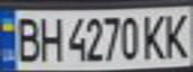0: (121, 12, 142, 62)
2: (84, 14, 106, 62)
4: (63, 14, 87, 62)
7: (103, 12, 124, 62)
B: (9, 14, 42, 63)
H: (36, 14, 63, 63)
K: (160, 9, 193, 61), (139, 10, 169, 61)
